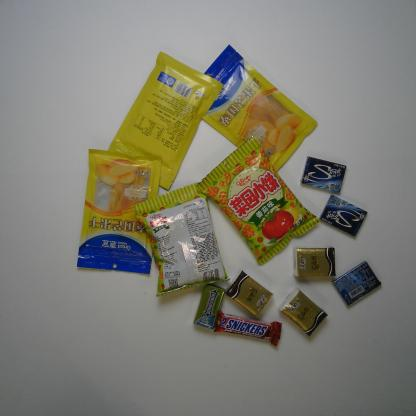Chocolate: (213, 308, 283, 349)
Dried Fruit: (108, 50, 226, 191), (201, 44, 321, 173), (75, 148, 163, 276)
Gum: (331, 259, 382, 307), (318, 194, 368, 238), (299, 156, 347, 194), (192, 283, 226, 331)
Puffed Food: (195, 136, 320, 266), (131, 181, 231, 298)
Tissue: (277, 287, 328, 338), (224, 269, 274, 318), (291, 246, 336, 278)
